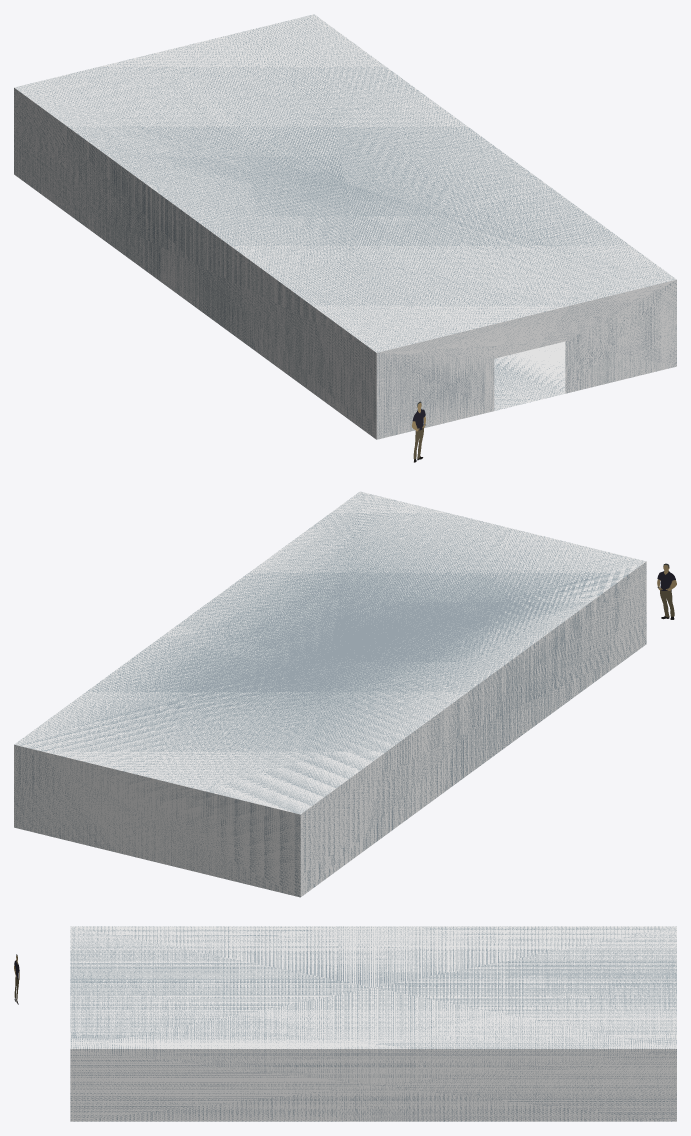
3 renders of one model, top to bottom at view 1: azimuth 30°, elevation 25°; view 2: azimuth 150°, elevation 25°; view 3: azimuth 270°, elevation 25°, orthographic. The views are drawn at different scales.
Parts seen in each view (by area): view 1: Model; view 2: Model, Chris1; view 3: Model.
Boxes of the visible parts, bbox=[...] form: Model: bbox=[14, 14, 676, 439]; Model: bbox=[14, 491, 646, 897]; Chris1: bbox=[657, 563, 676, 619]; Model: bbox=[70, 926, 676, 1121].
Size of the model in its own units: 9.47 by 2.62 by 21.64.
